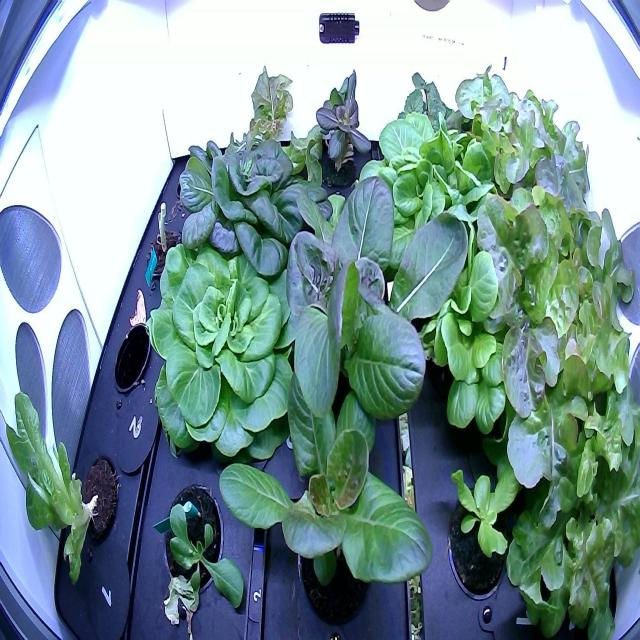Ready: (347, 101, 508, 270)
empty_pod: (109, 315, 155, 408)
young: (209, 342, 435, 620), (272, 174, 476, 434), (142, 224, 310, 472), (172, 118, 338, 282), (3, 376, 125, 590), (436, 438, 533, 612), (154, 477, 252, 634), (306, 66, 381, 190)
